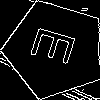E: (30, 24, 86, 70)
